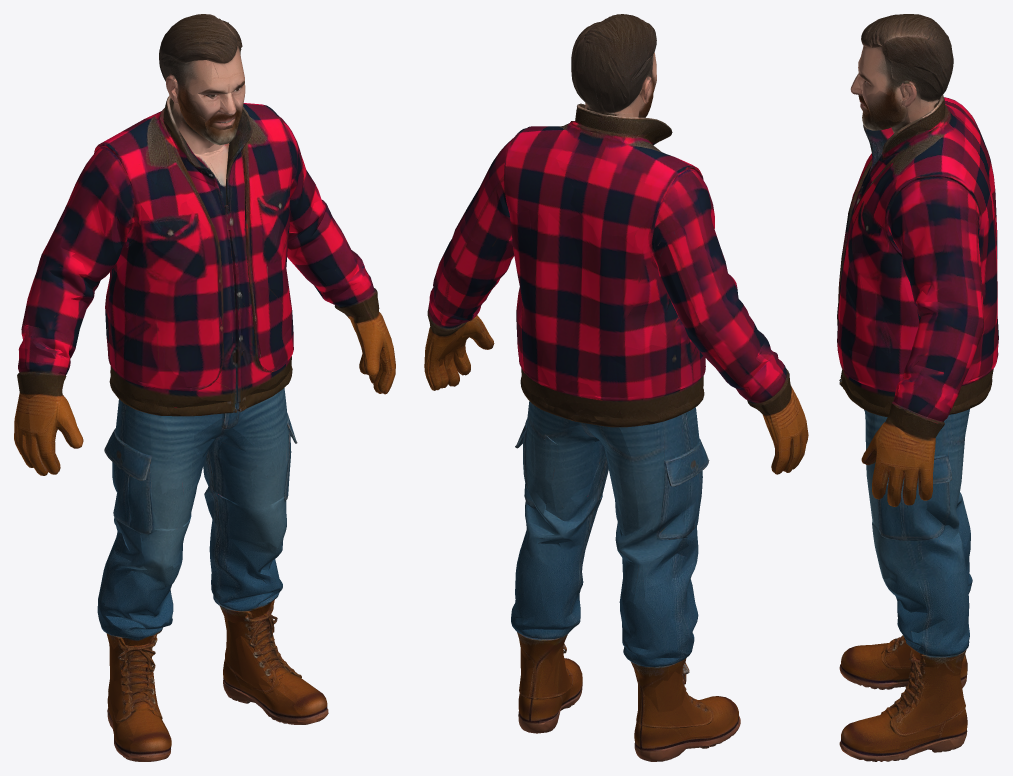
Rendered from hunter-flannel-none-jeans.glb.
3 views of the same model, side by side, from view 1: azimuth 30°, elevation 25°; view 2: azimuth 150°, elevation 25°; view 3: azimuth 270°, elevation 25° (orthographic).
Size of the model in its own units: 1.04 by 1.9 by 0.3994.
Materials: 1 (1 with a texture image).
